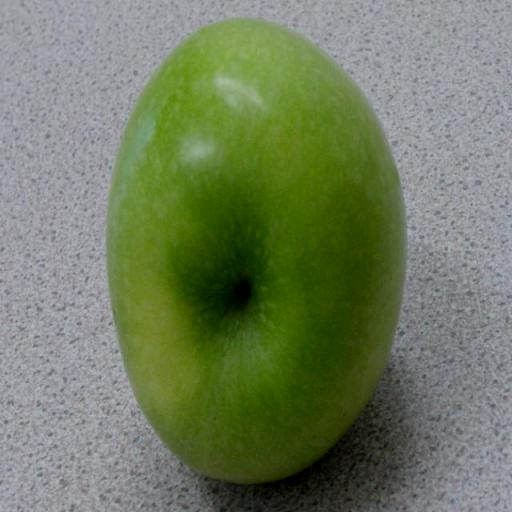fruit: (108, 20, 404, 482)
